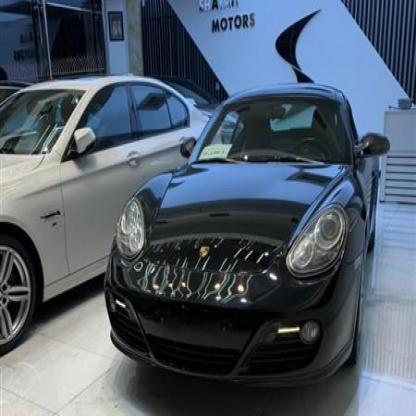Car: (106, 85, 376, 376), (0, 65, 230, 330)
